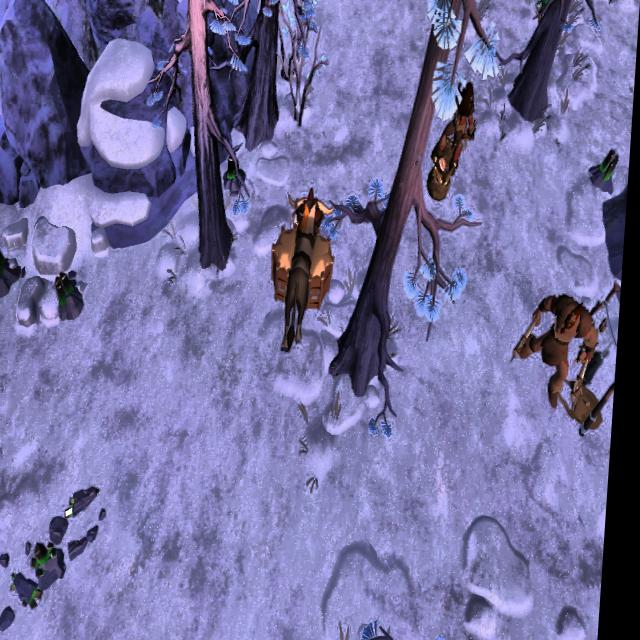enemy_factionKeeper: (516, 284, 600, 418), (432, 84, 481, 182)
ore_t3: (599, 142, 623, 187), (55, 270, 79, 311), (225, 152, 242, 188), (0, 246, 15, 286)
